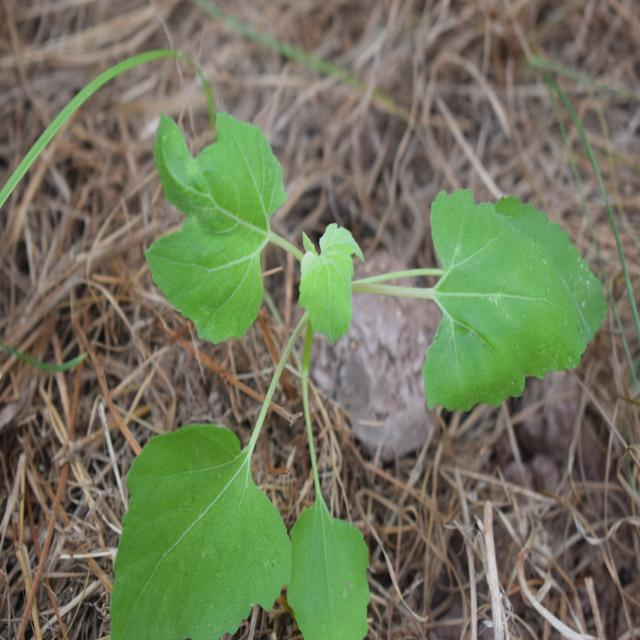cocklebur: (83, 134, 586, 610)
